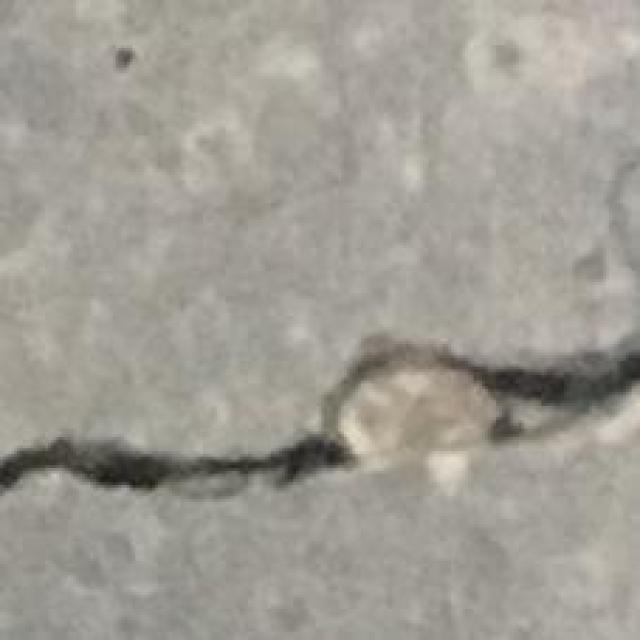Crack: (5, 335, 640, 510)
